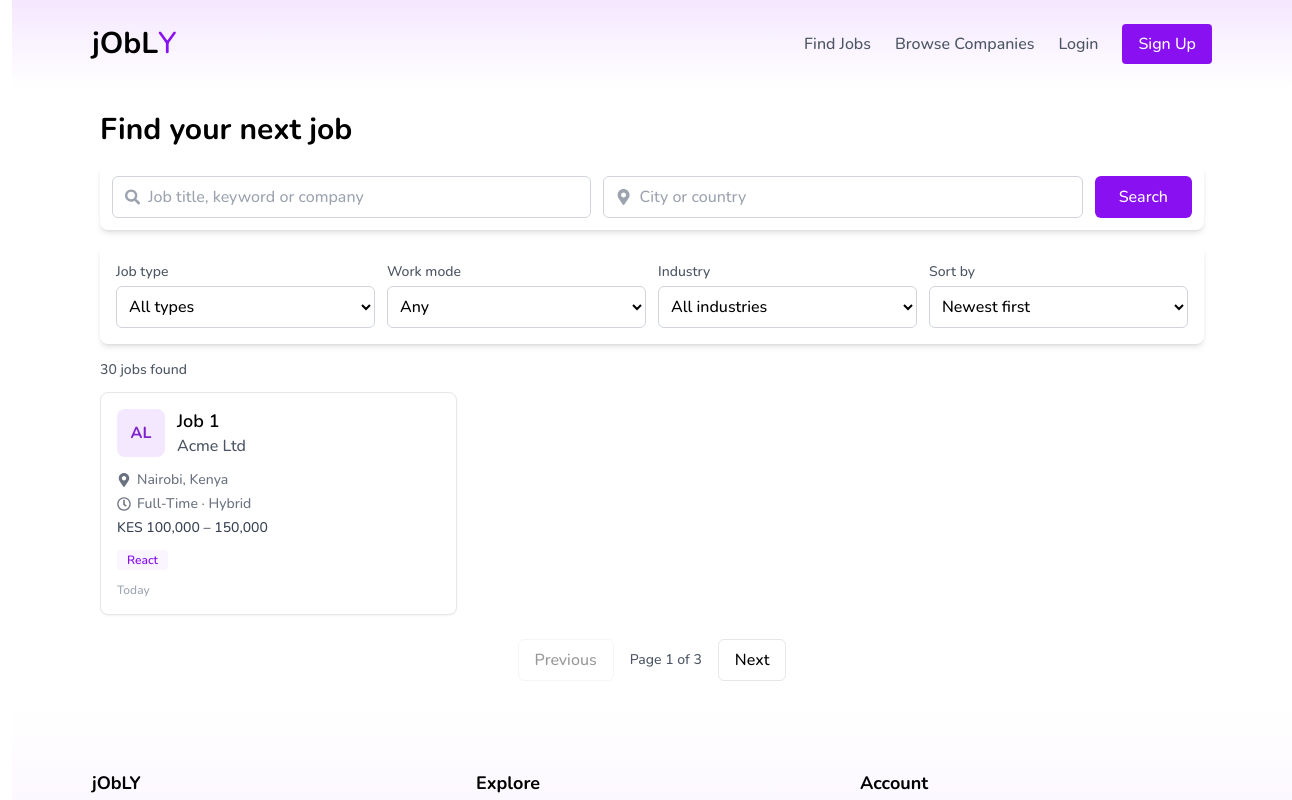
JobSearchPage › pagination moves to the next page
Check: the heading "Job 1" is shown, box [177,409,220,433]
Click the button "Next" at x=752, y=660, box [718,639,786,681]
(page scrolled)
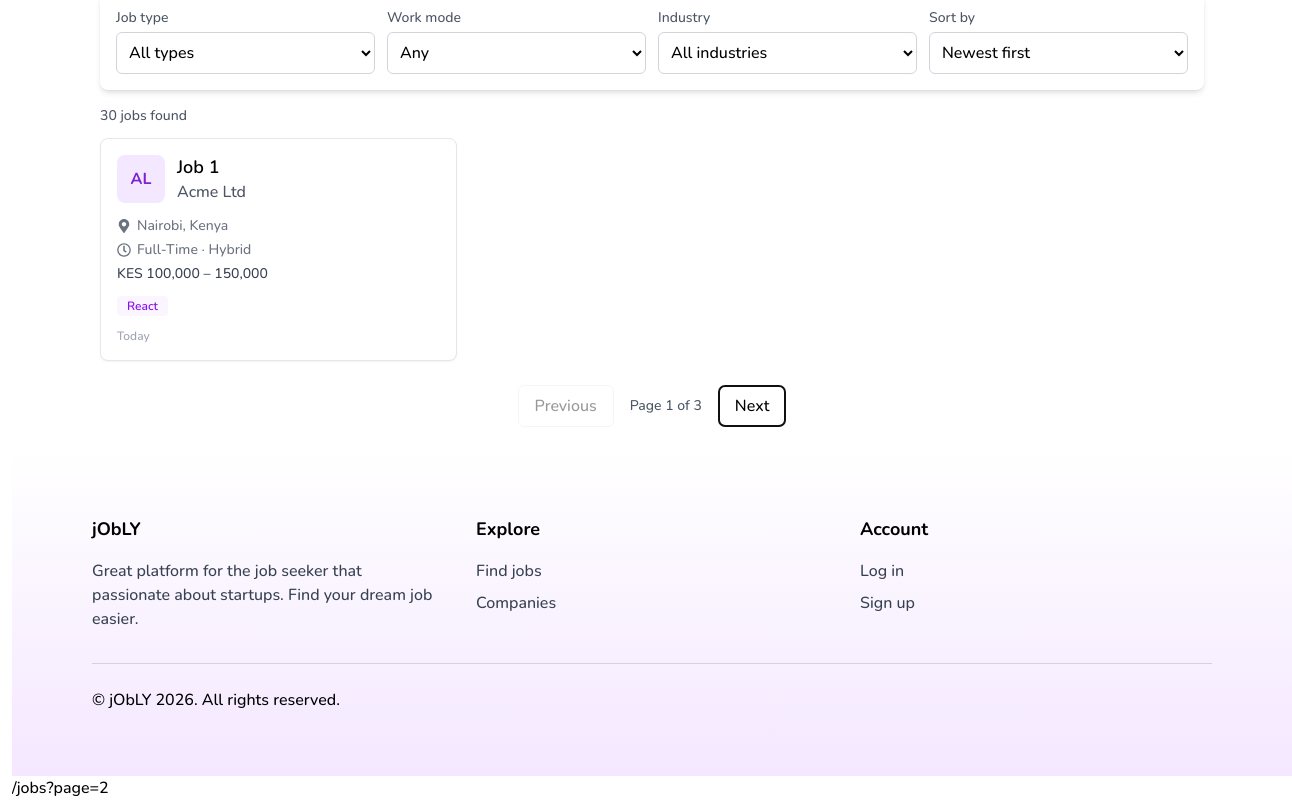
Check: the text with test id "loc" reads "/jobs?page=2", box [12,777,109,799]
